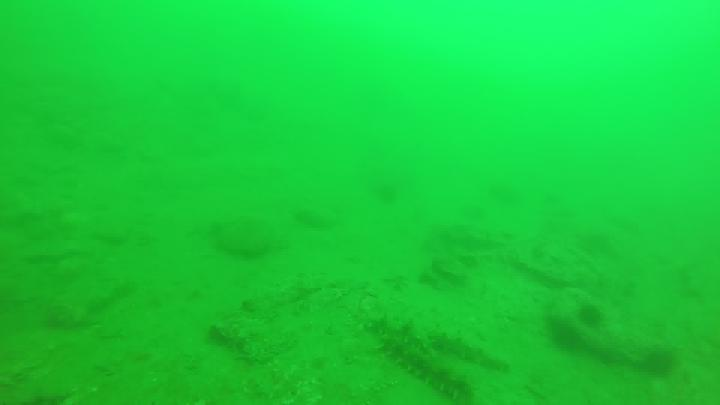echinus: (581, 307, 604, 326)
holothurian: (379, 340, 475, 399), (431, 335, 513, 371), (365, 317, 434, 354)
